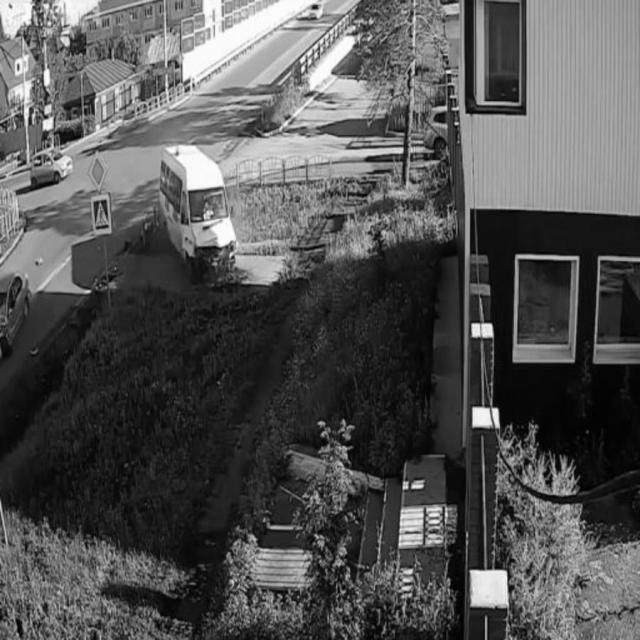accident: (160, 144, 248, 281)
vehicle: (0, 275, 30, 356), (28, 145, 72, 190), (307, 0, 323, 20)
